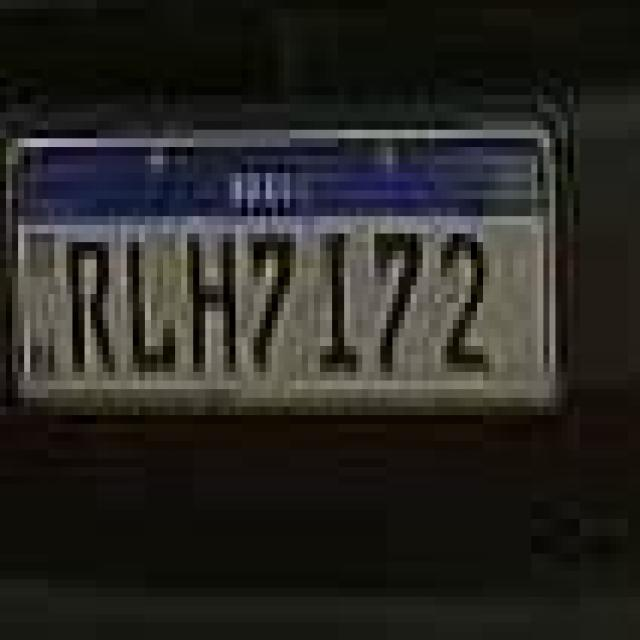7: (375, 230, 424, 376), (252, 229, 297, 376)
H: (186, 221, 242, 383)
I: (316, 228, 363, 380)
L: (124, 226, 174, 383)
R: (62, 228, 114, 381)
